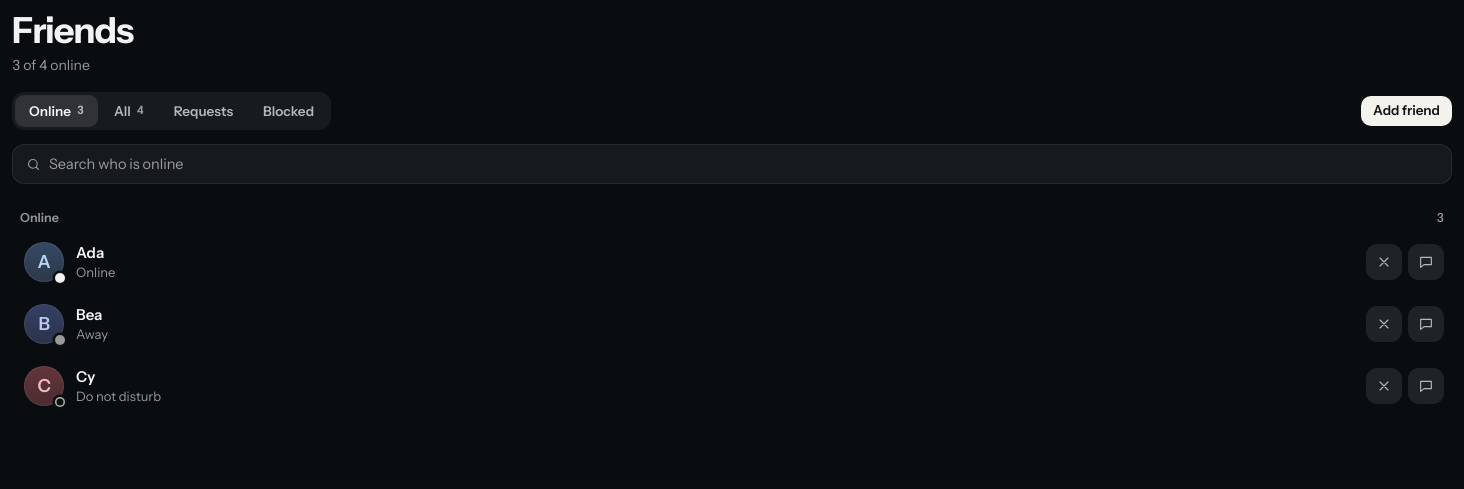
Test case: FriendsPage › who is here, drawn as the places panel draws people › draws presence as ink and steps an offline friend back
Click the tab "All 4" at (129, 111), box [100,95,158,127]
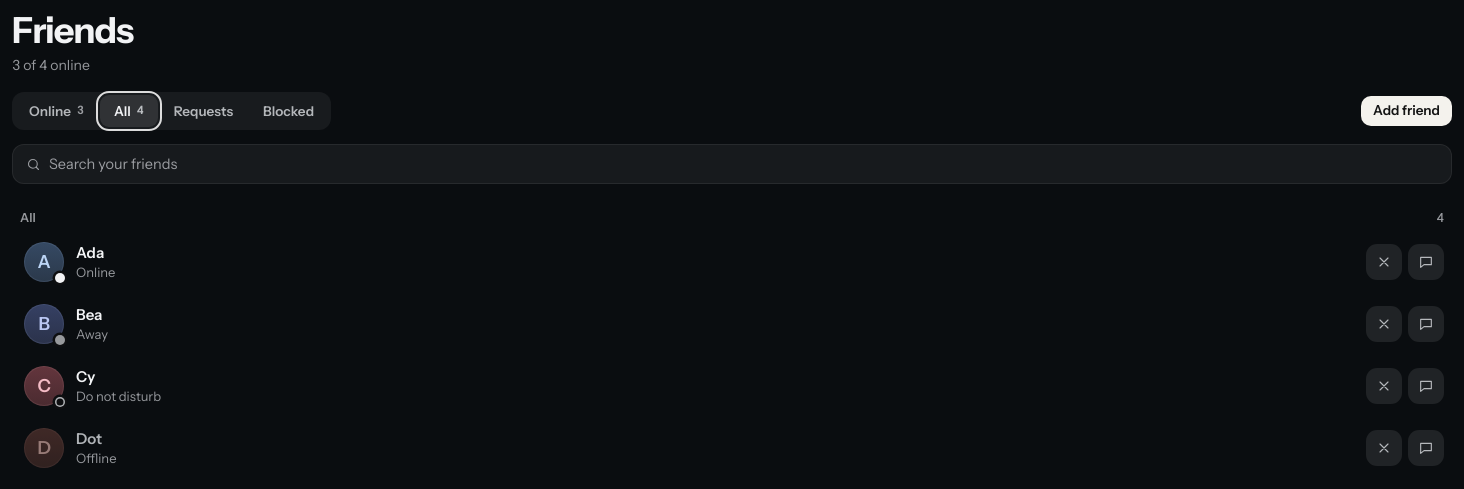
Now the button with aria-label "Open profile for Dot" shows "Offline", box [18,424,1358,472]
